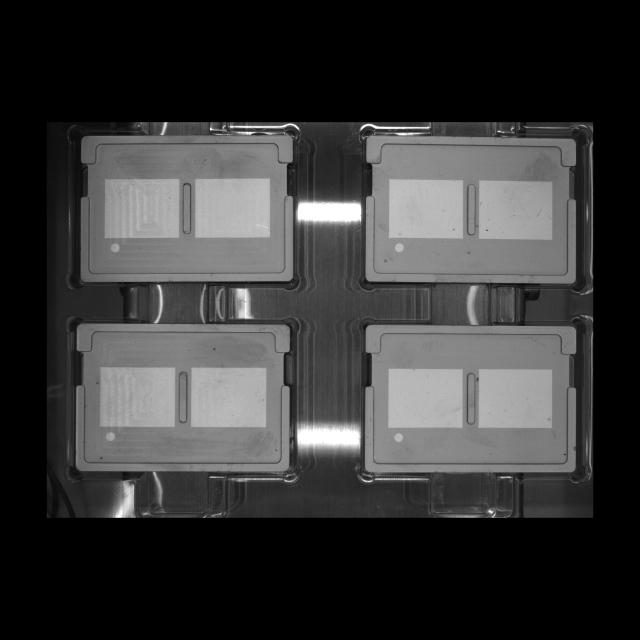product: (65, 124, 303, 294), (66, 315, 304, 485), (356, 314, 590, 486), (359, 125, 592, 294)
